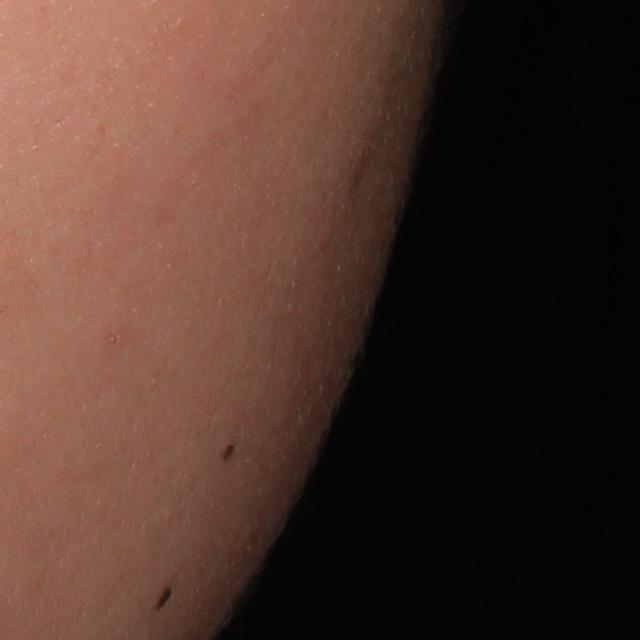nevus: (153, 584, 174, 614), (222, 442, 236, 466)
